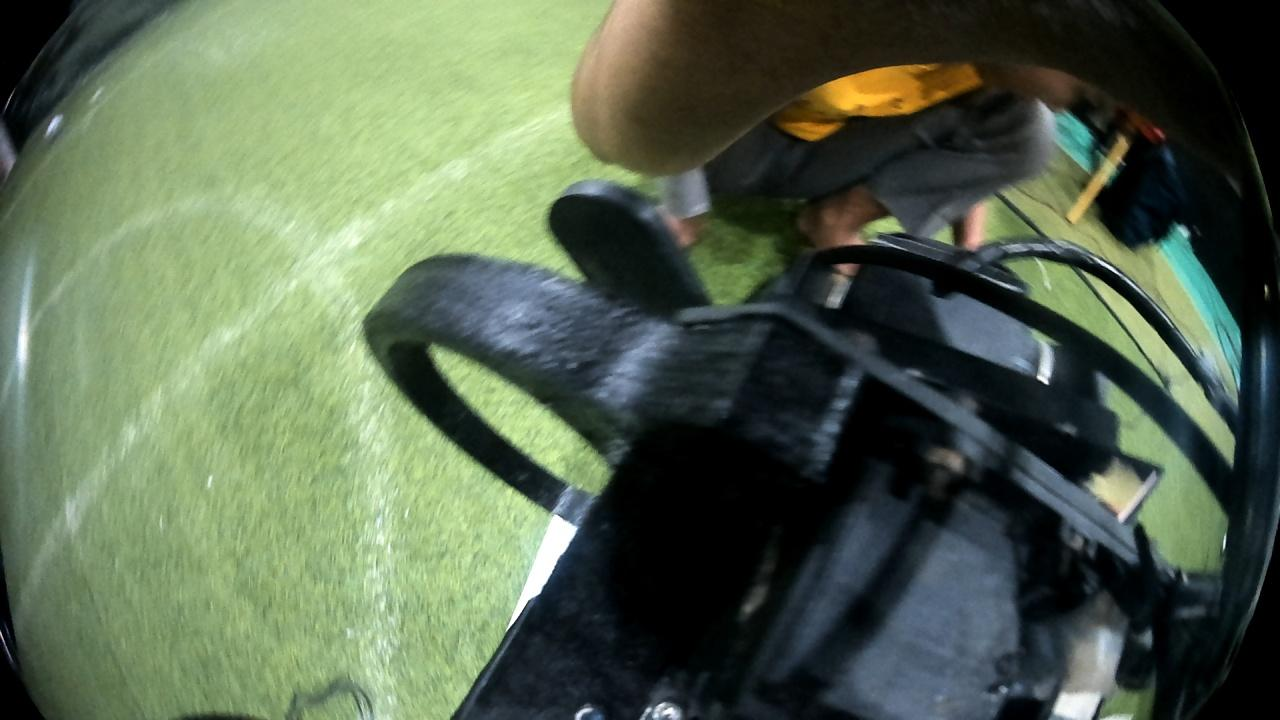ball: (41, 109, 61, 125)
